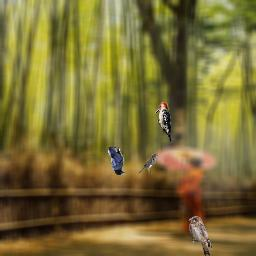Crow: (108, 147, 125, 175)
Sparrow: (138, 153, 158, 174)
Swallow: (189, 216, 212, 256)
Woodpecker: (154, 102, 171, 142)
